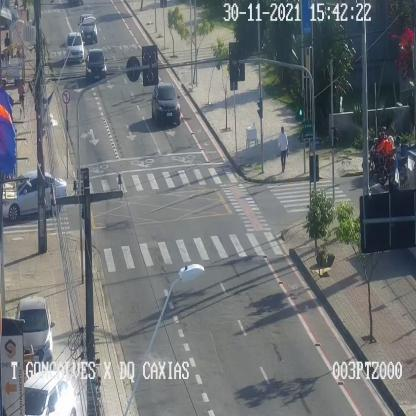car: (2, 171, 67, 216), (15, 296, 55, 364), (24, 370, 77, 415), (152, 81, 182, 125), (83, 47, 106, 80), (77, 12, 98, 44), (66, 32, 84, 62)
motorbike: (378, 134, 412, 186), (367, 134, 396, 180)
person: (277, 124, 287, 172), (18, 78, 26, 118)
